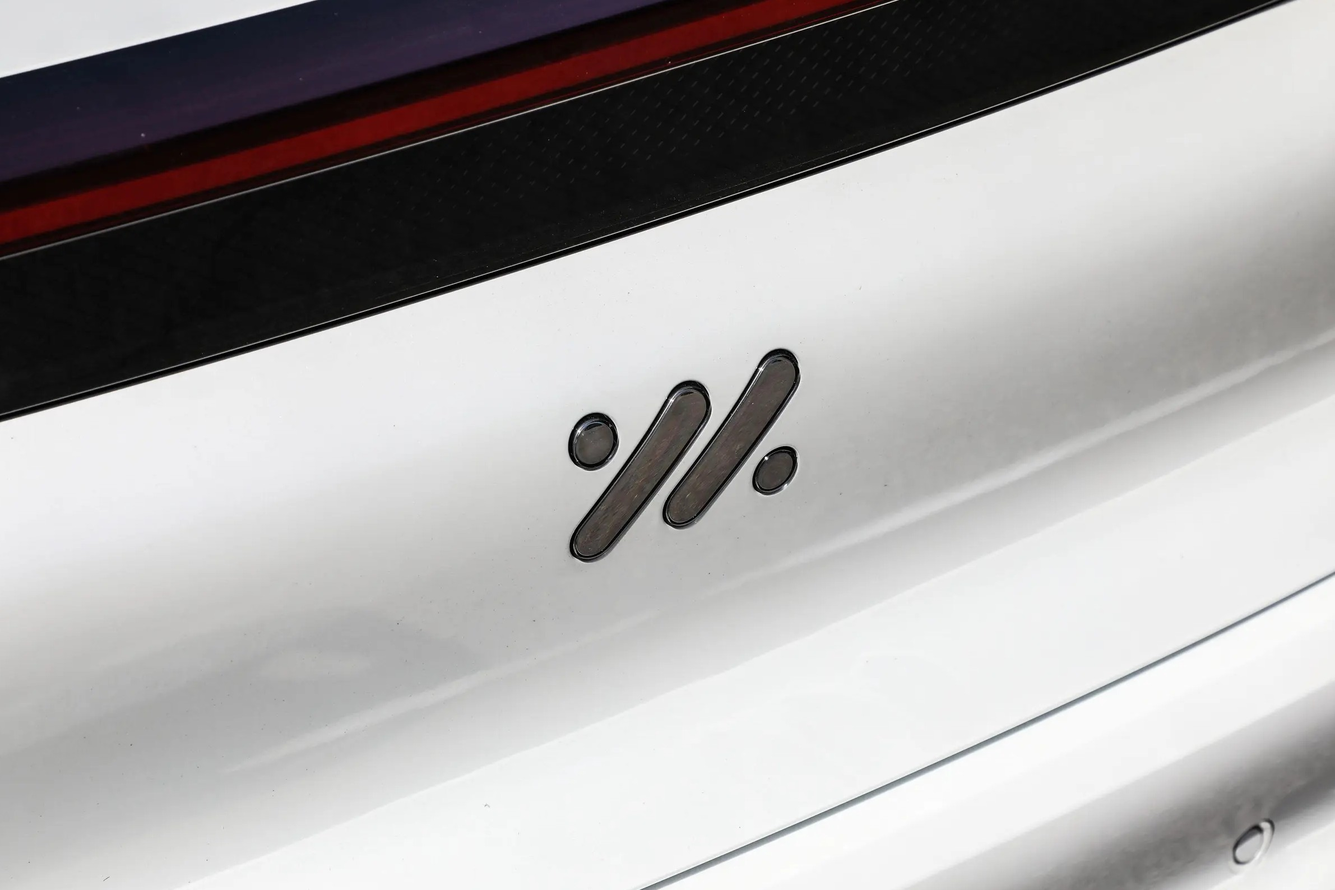IM: (569, 351, 799, 563)
